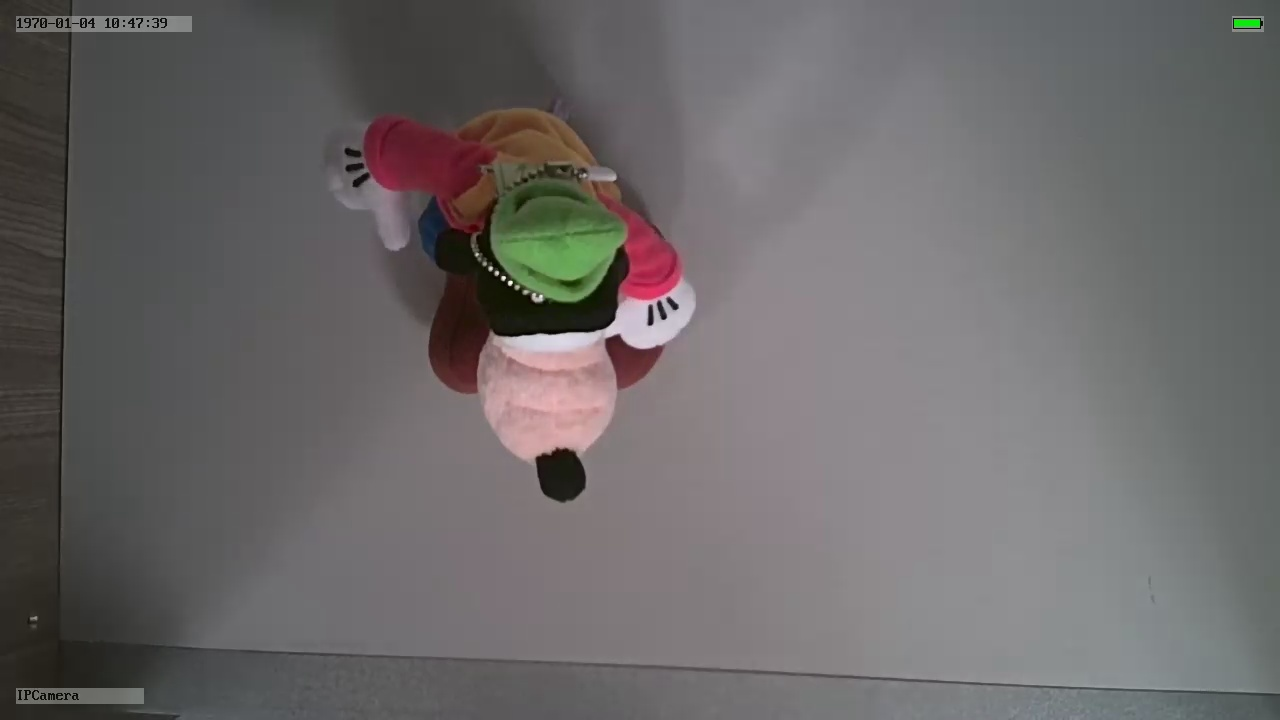goofy: (320, 105, 700, 500)
